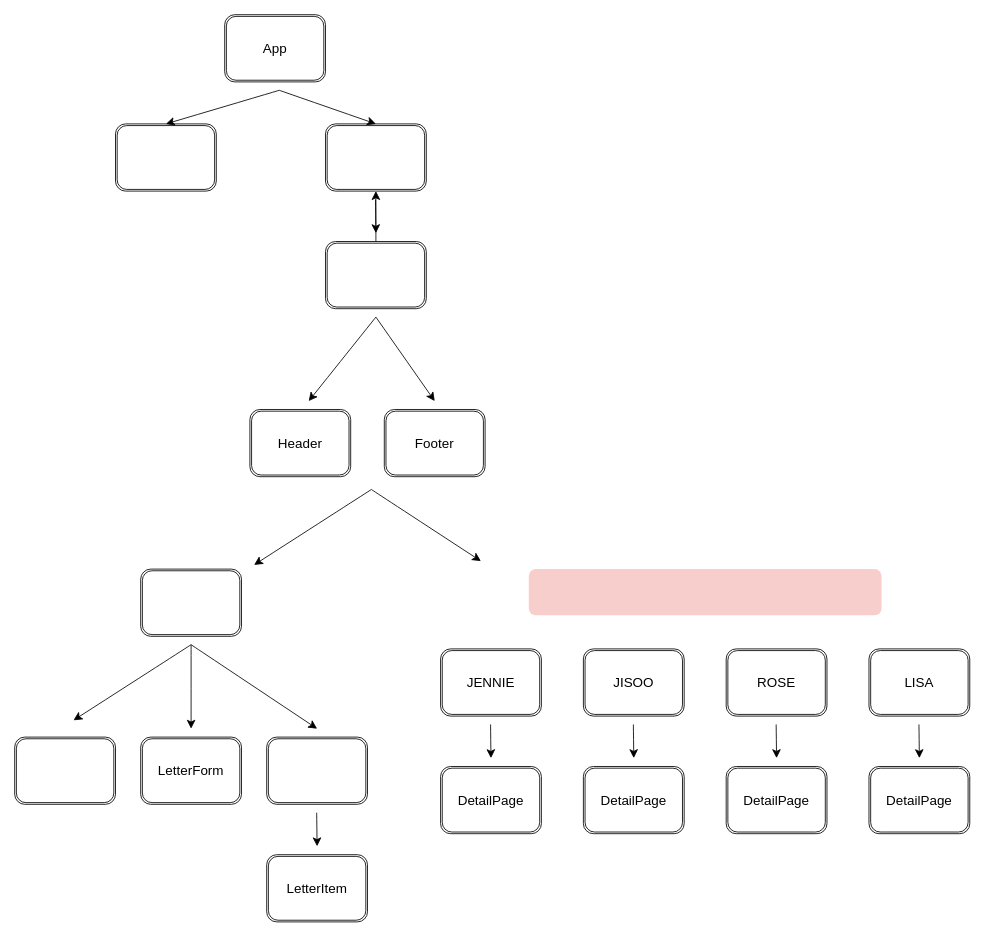
The diagram is 984 pixels wide and 937 high, and some of its shapes have lost their labels. The centre of each missing label's shape, as x and y in pixels:
GlobalStyle: (165,157)
Layout: (375,275)
LetterList: (317,770)
MainPage: (191,602)
Nav: (65,770)
PAGES: (704,592)
Router: (375,157)
